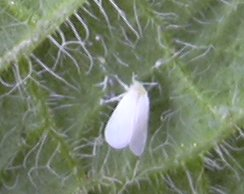whitefly: (100, 72, 157, 155)
